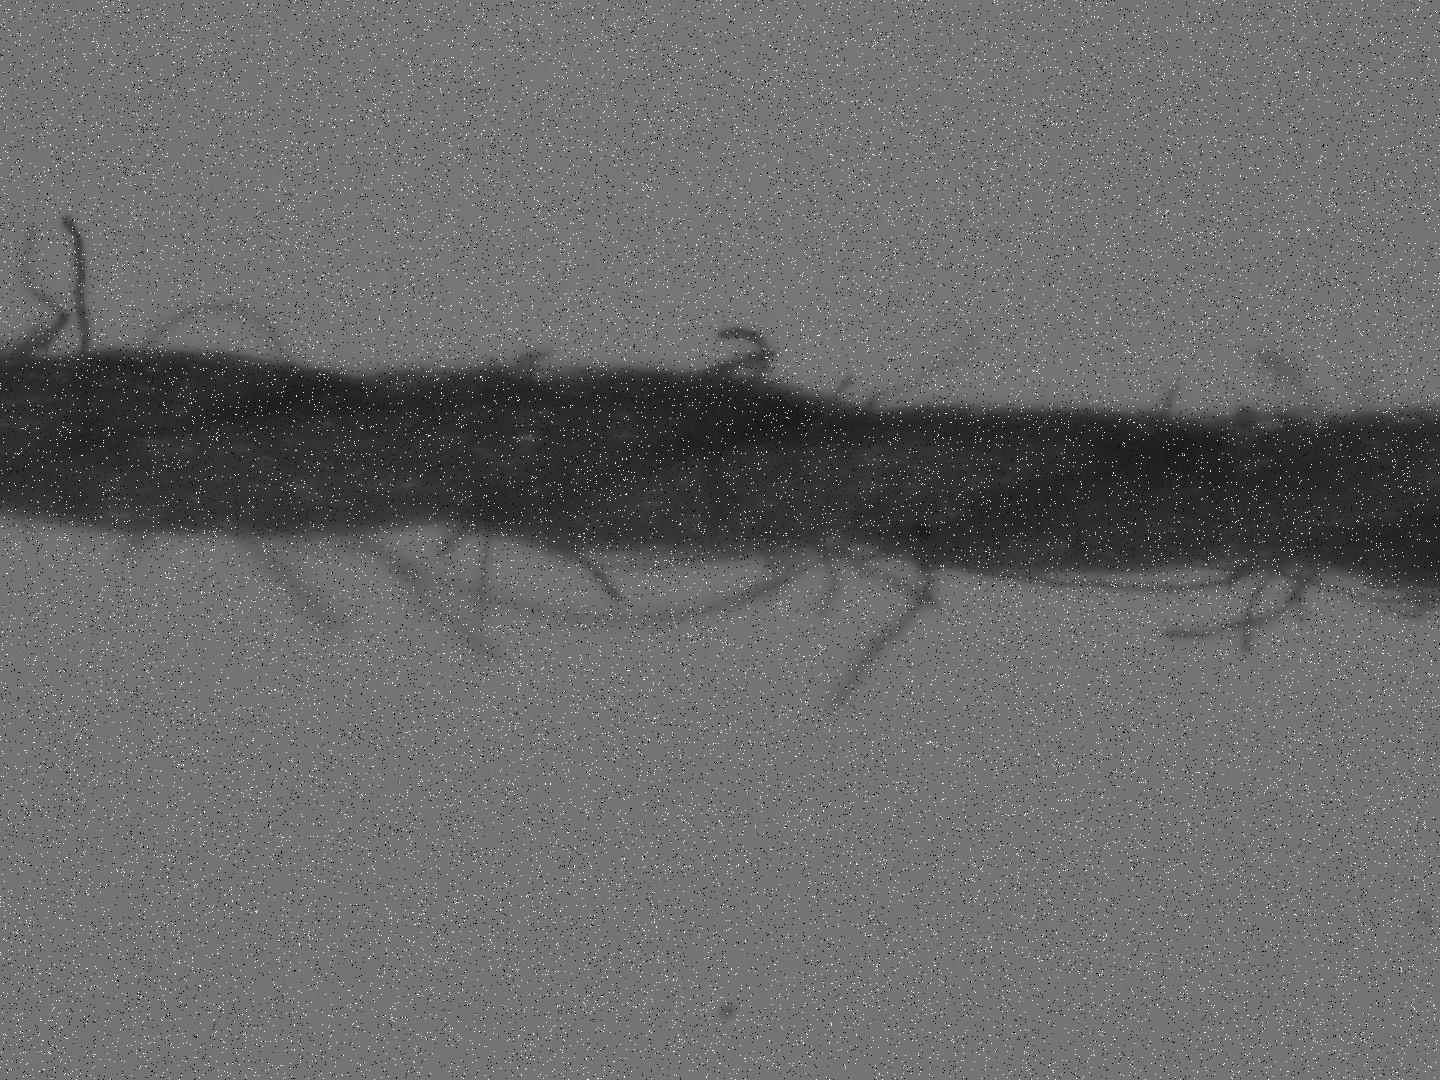loop_fiber: (289, 517, 847, 630), (969, 564, 1438, 625), (132, 302, 296, 368)
protruding_fiber: (354, 522, 498, 657), (828, 563, 937, 708), (1170, 565, 1323, 641), (857, 323, 980, 415), (232, 531, 340, 635), (1, 221, 66, 356), (847, 549, 946, 610), (547, 534, 627, 605), (1260, 349, 1328, 422), (61, 204, 92, 353), (1235, 560, 1272, 659), (720, 323, 769, 387), (471, 522, 493, 642), (810, 542, 837, 616), (433, 522, 483, 558), (1154, 376, 1181, 422), (828, 368, 858, 407), (705, 353, 779, 369)
